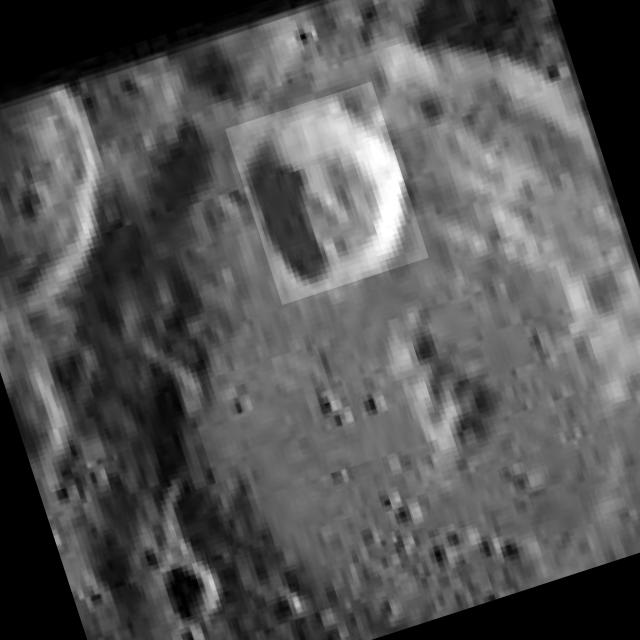crater: (225, 82, 429, 304), (157, 557, 226, 629)
